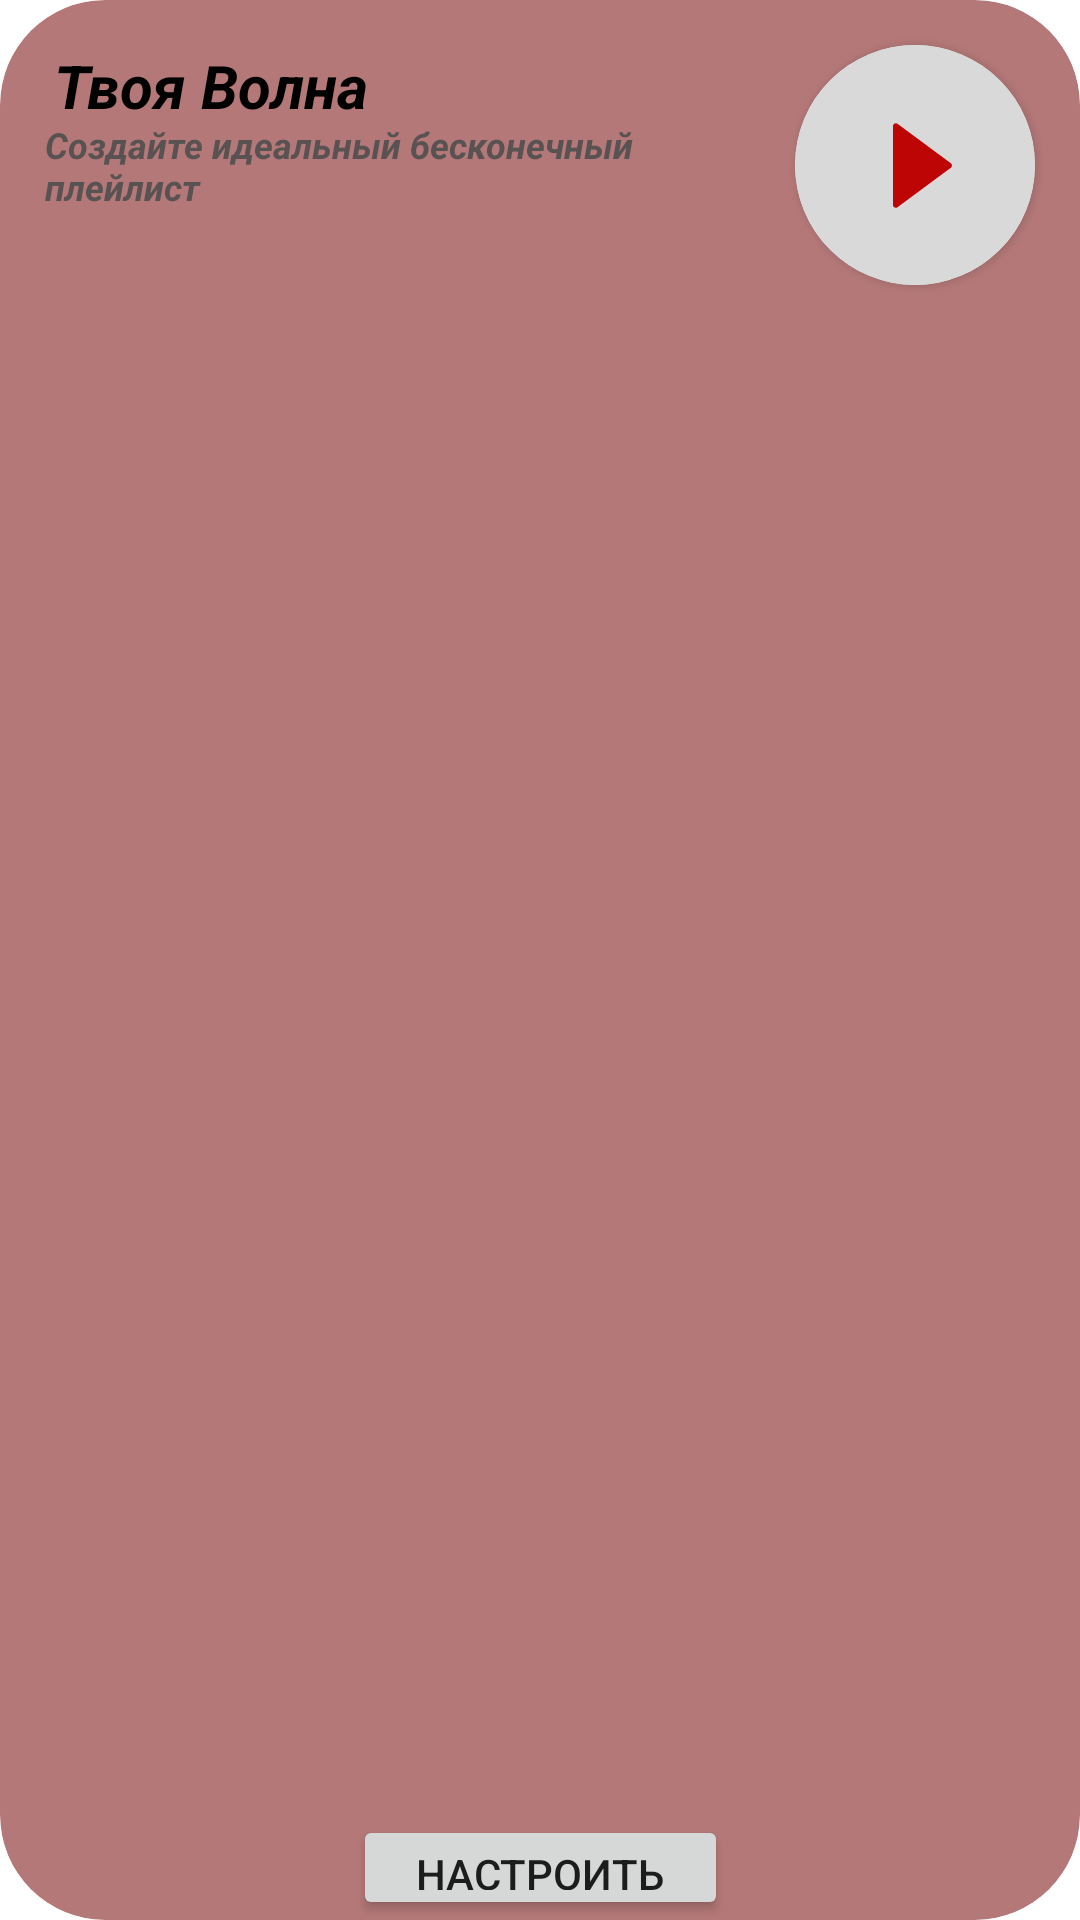

Icon bounding boxes for this 1080x1920 phone screenshot, format (x1, y1, x2, y2):
play: (795, 45, 1035, 285)
